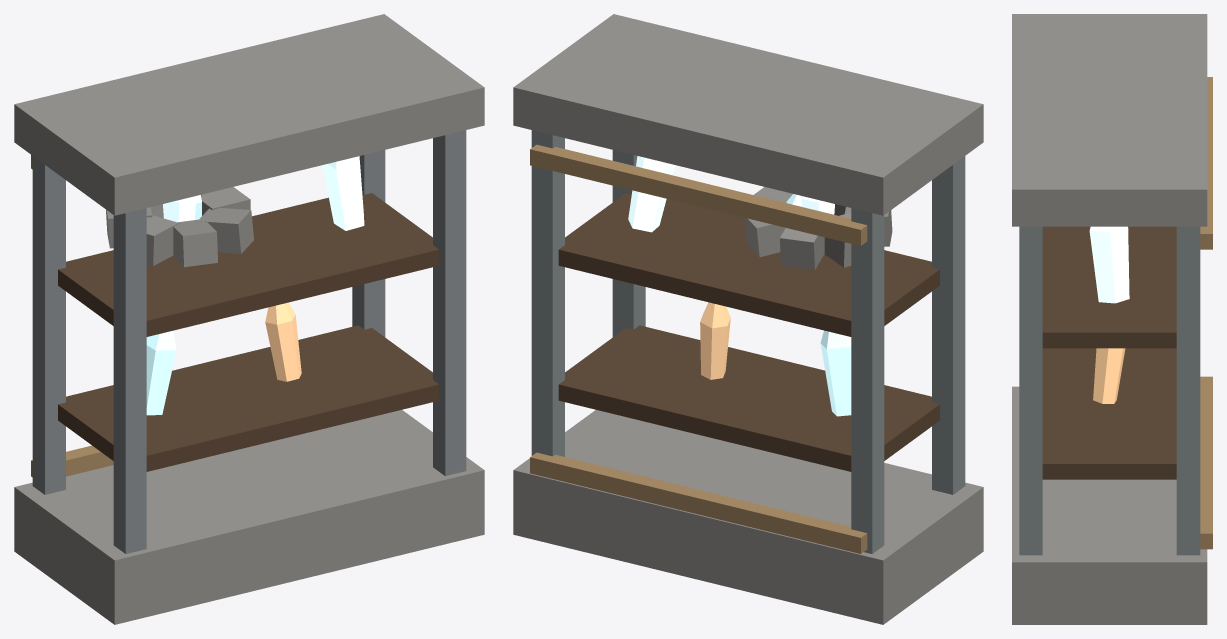
The model's file is decor-mineral-display-case.glb.
3 renders of one model, left to right at view 1: azimuth 30°, elevation 25°; view 2: azimuth 150°, elevation 25°; view 3: azimuth 270°, elevation 25°, orthographic. The views are drawn at different scales.
Parts seen in each view (by area): view 1: base, top, shelf-0.49, shelf-0.95, post--0.57-0.25, post-0.57-0.25, post--0.57--0.25, post-0.57--0.25, specimen-c, specimen-b, specimen-a, geode-shell-UnityEngine.Vector3-2 (+5 smaller); view 2: top, base, shelf-0.49, shelf-0.95, post--0.57--0.25, post--0.57-0.25, post-0.57--0.25, lower-trim, upper-trim, specimen-a, post-0.57-0.25, specimen-b (+4 smaller); view 3: top, base, shelf-0.49, shelf-0.95, post-0.57--0.25, post-0.57-0.25, specimen-c, lower-trim, specimen-b, upper-trim.
Boxes of the visible parts, box(x1,y1,x2,y2) form: base: box(14, 410, 484, 624); top: box(14, 14, 484, 215); shelf-0.49: box(58, 325, 439, 471); shelf-0.95: box(58, 193, 439, 336); post--0.57-0.25: box(113, 208, 146, 553); post-0.57-0.25: box(433, 130, 466, 476); post--0.57--0.25: box(32, 156, 65, 494); post-0.57--0.25: box(352, 150, 385, 336); specimen-c: box(322, 156, 364, 230); specimen-b: box(265, 302, 301, 381); specimen-a: box(146, 331, 176, 415); geode-shell-UnityEngine.Vector3-2: box(173, 219, 217, 267); top: box(513, 14, 983, 215); base: box(513, 410, 983, 624); shelf-0.49: box(558, 325, 939, 471); shelf-0.95: box(558, 193, 939, 336); post--0.57--0.25: box(851, 208, 884, 553); post--0.57-0.25: box(932, 156, 965, 494); post-0.57--0.25: box(531, 130, 564, 456); lower-trim: box(530, 452, 867, 553); upper-trim: box(530, 144, 867, 245); specimen-a: box(820, 330, 851, 416); post-0.57-0.25: box(612, 150, 645, 336); specimen-b: box(700, 302, 730, 379); top: box(1012, 14, 1207, 226); base: box(1012, 386, 1207, 624); shelf-0.49: box(1042, 348, 1176, 479); shelf-0.95: box(1042, 226, 1176, 348); post-0.57--0.25: box(1176, 226, 1200, 555); post-0.57-0.25: box(1019, 226, 1042, 555); specimen-c: box(1089, 226, 1129, 303); lower-trim: box(1200, 376, 1212, 549); specimen-b: box(1093, 348, 1125, 403); upper-trim: box(1200, 77, 1212, 249).
Size of the model in its own units: 1.32 by 1.53 by 0.6375.
